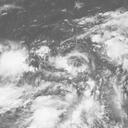cyclone: (35, 41, 99, 99)
